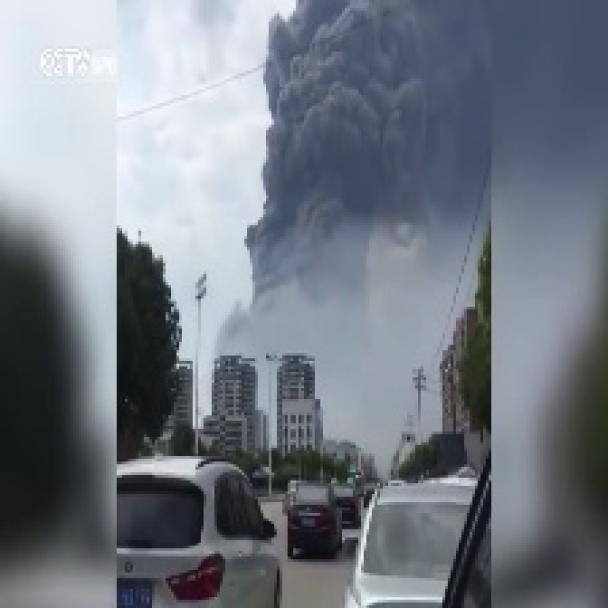smoke: (243, 0, 482, 354)
